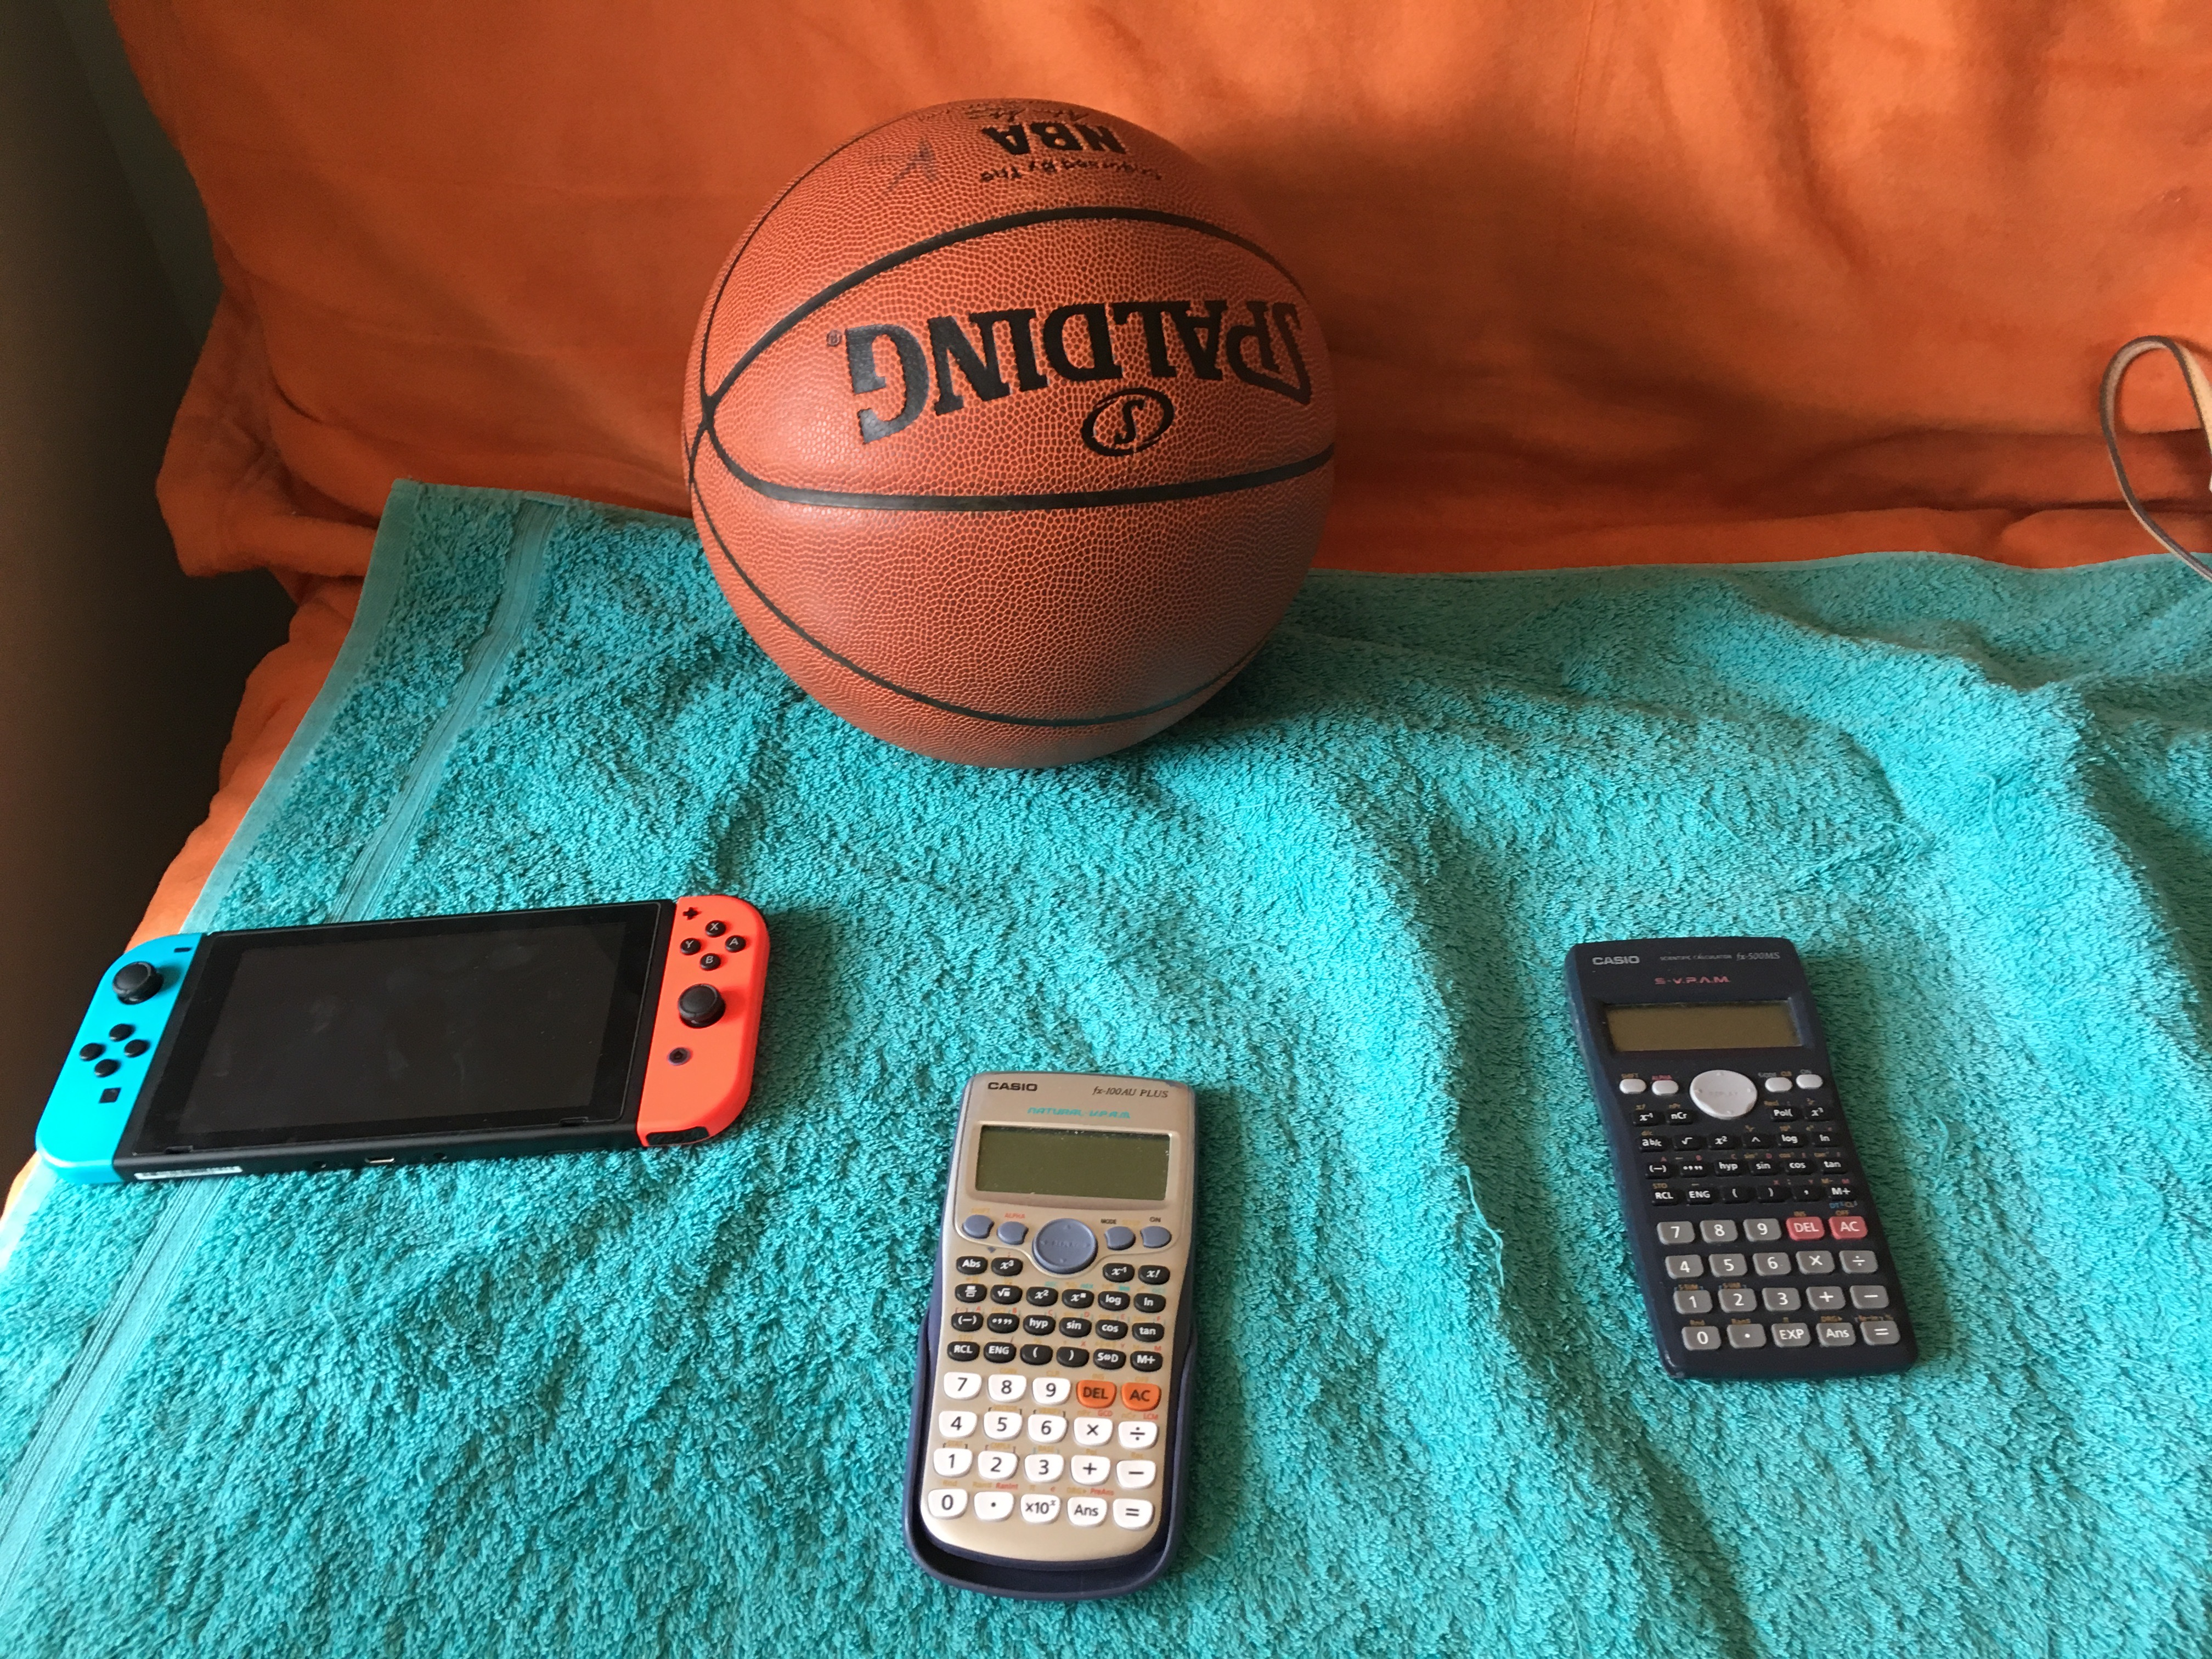Basketball: (658, 87, 1357, 774)
Calculator: (887, 1056, 1214, 1601), (1554, 922, 1923, 1392)
NintendoSwitch: (17, 882, 786, 1190)
